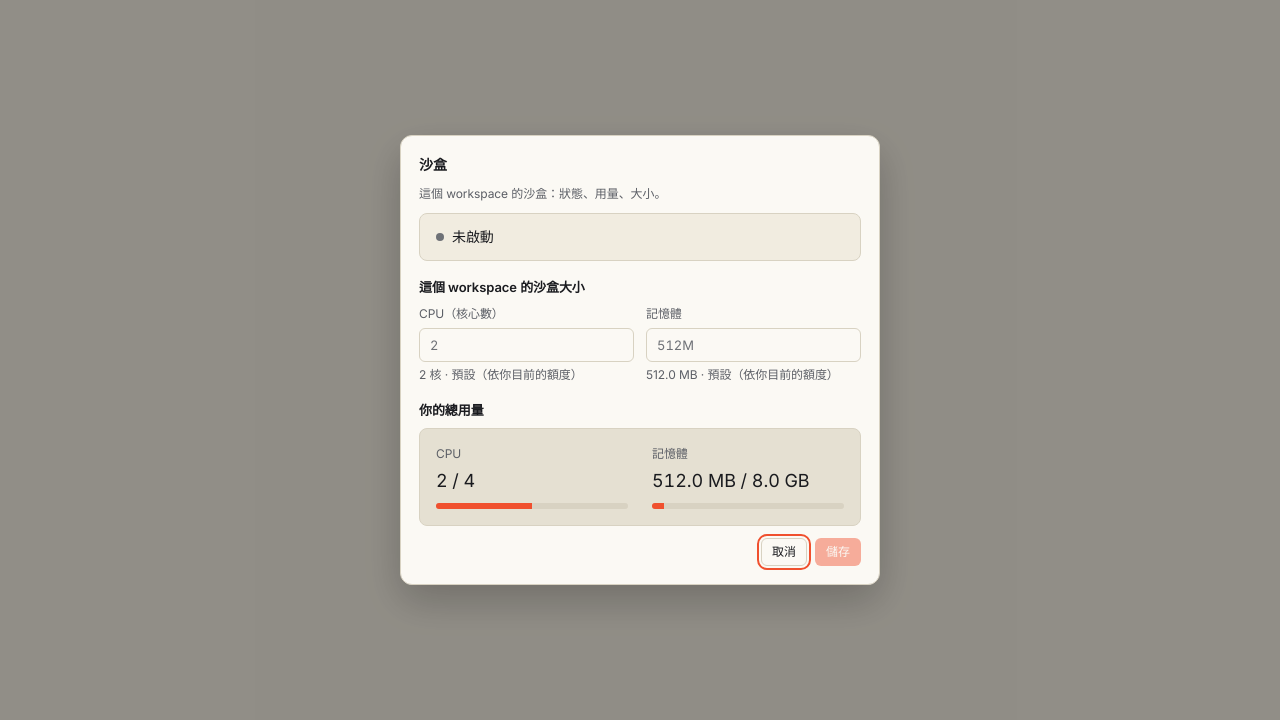
Test: ItemEnvironmentModal — what the review found unguarded › refuses, on the keystroke, a size past the ceiling the RECORD names — and the hint says the record's number (#830)
In the number field with test id "cpu-input": x=526, y=345 x1=419 y1=328 x2=634 y2=362, type "8"
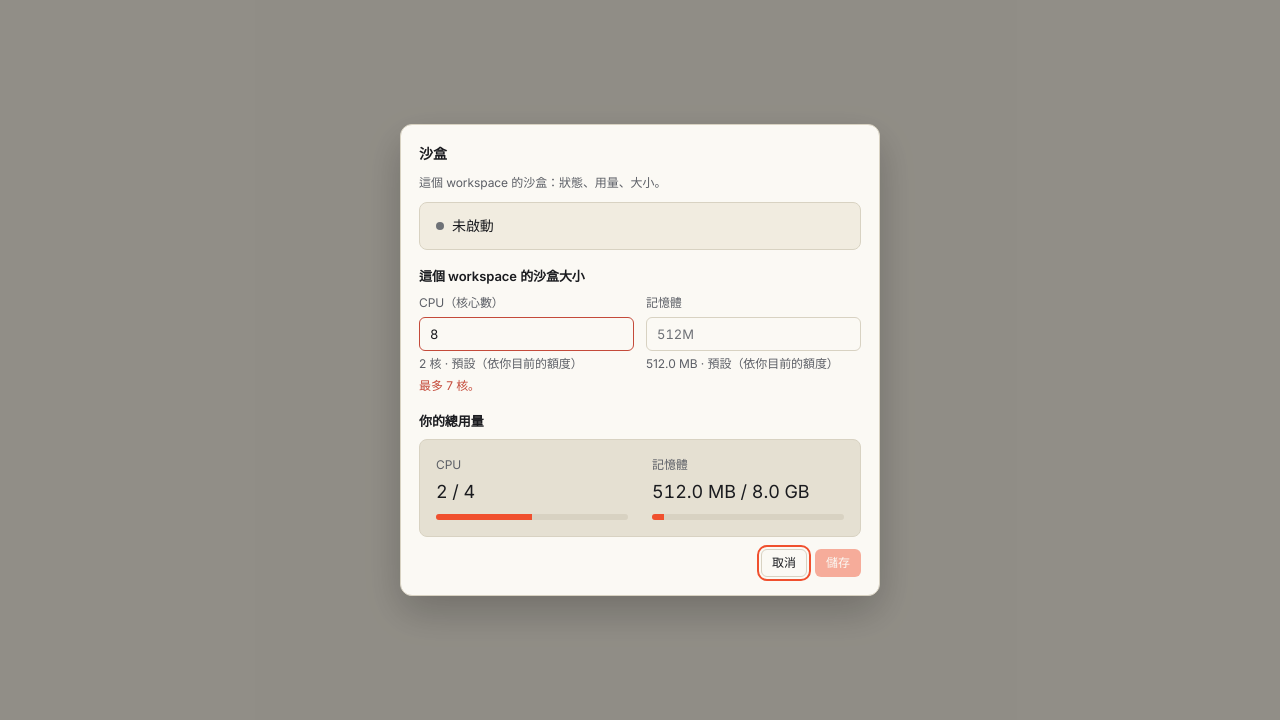
Expected: the button with test id "itemenv-save" is disabled, x1=815 y1=549 x2=861 y2=577
Now the text with test id "cpu-hint" shows "7", box x1=419 y1=378 x2=480 y2=393
Now the text with test id "cpu-hint" reads "最多 7 核。", box x1=419 y1=378 x2=480 y2=393
Replace the text in the number field with test id "cpu-input" with "7": x=526, y=334 x1=419 y1=317 x2=634 y2=351
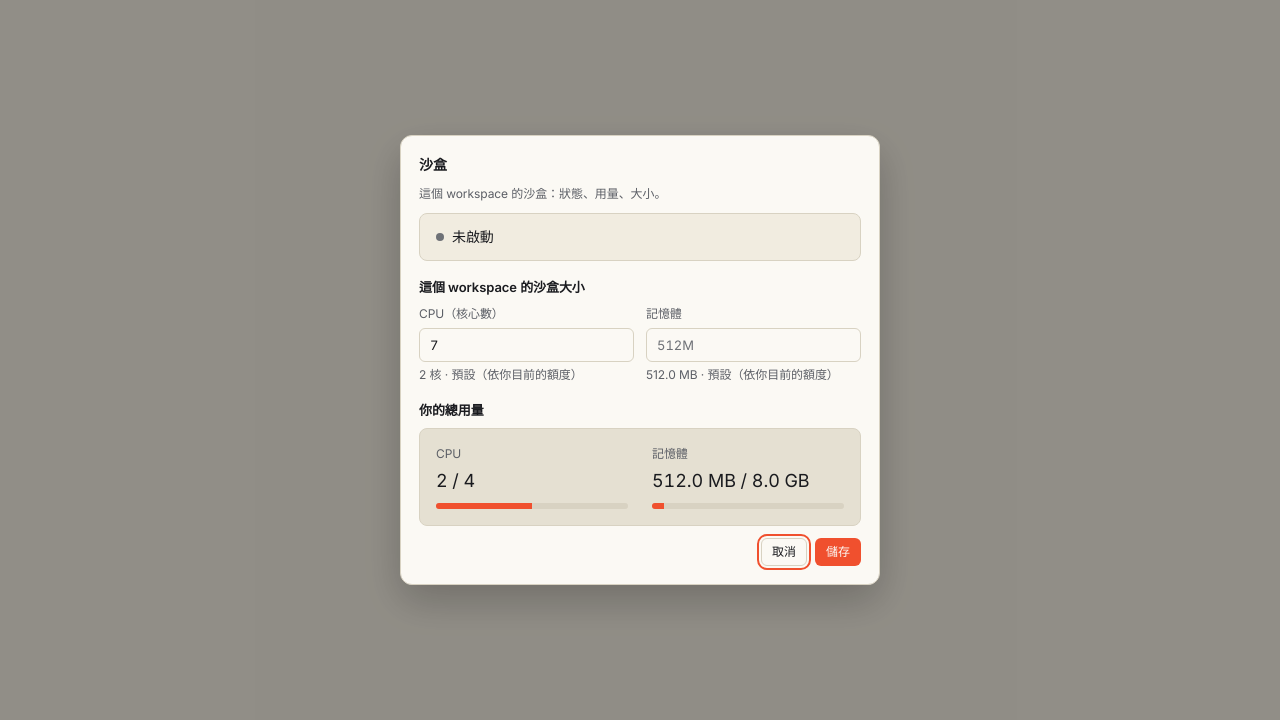
Now the button with test id "itemenv-save" is enabled, box x1=815 y1=538 x2=861 y2=566
Now the text with test id "cpu-hint" is gone
In the field with test id "memory-input": x=754, y=345 x1=646 y1=328 x2=861 y2=362, type "3073M"
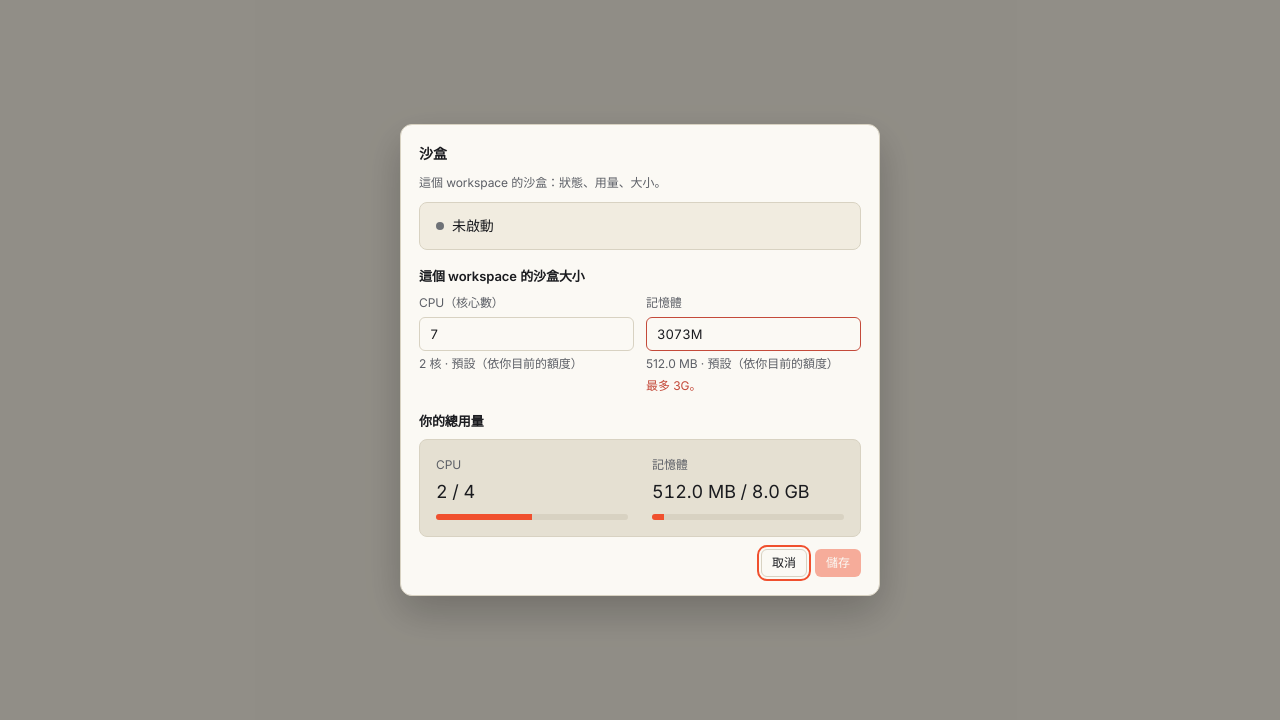
Now the button with test id "itemenv-save" is disabled, box x1=815 y1=549 x2=861 y2=577
Now the text with test id "memory-hint" shows "3G", box x1=646 y1=378 x2=701 y2=393
Now the text with test id "memory-hint" reads "最多 3G。", box x1=646 y1=378 x2=701 y2=393
Replace the text in the field with test id "memory-input" with "3 GB": x=754, y=334 x1=646 y1=317 x2=861 y2=351
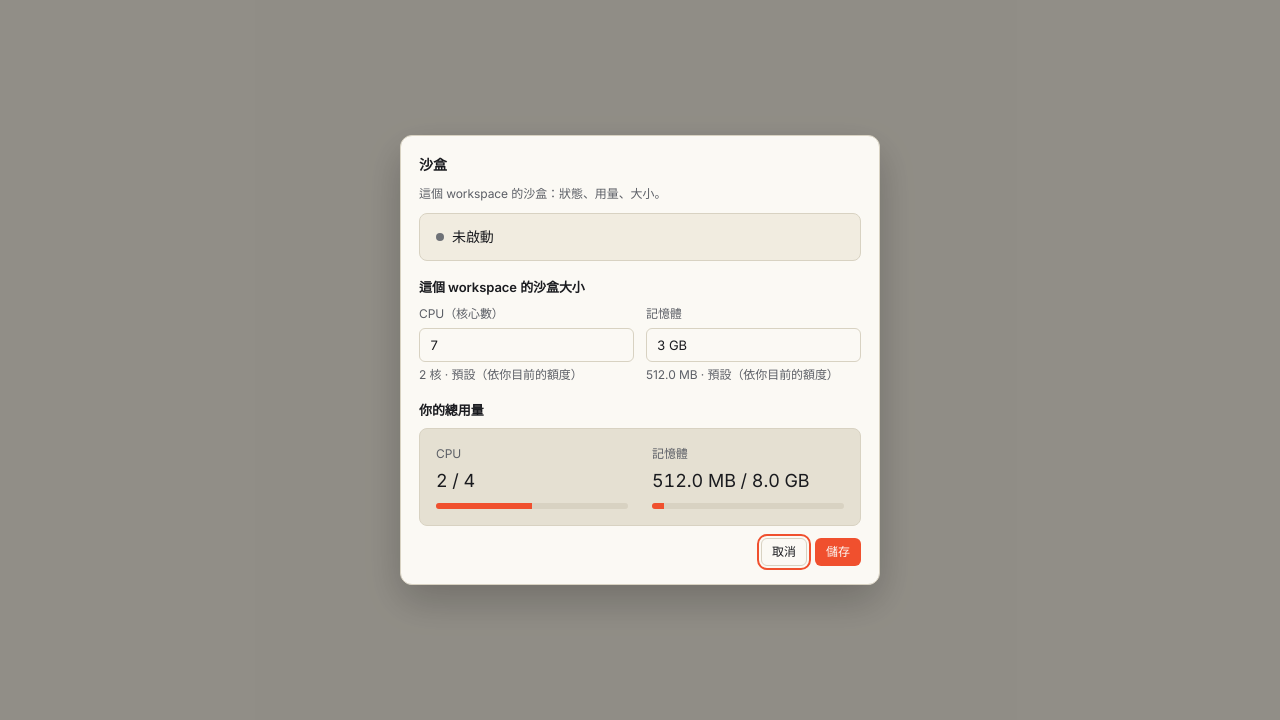
Now the button with test id "itemenv-save" is enabled, box x1=815 y1=538 x2=861 y2=566
Now the text with test id "memory-hint" is gone
